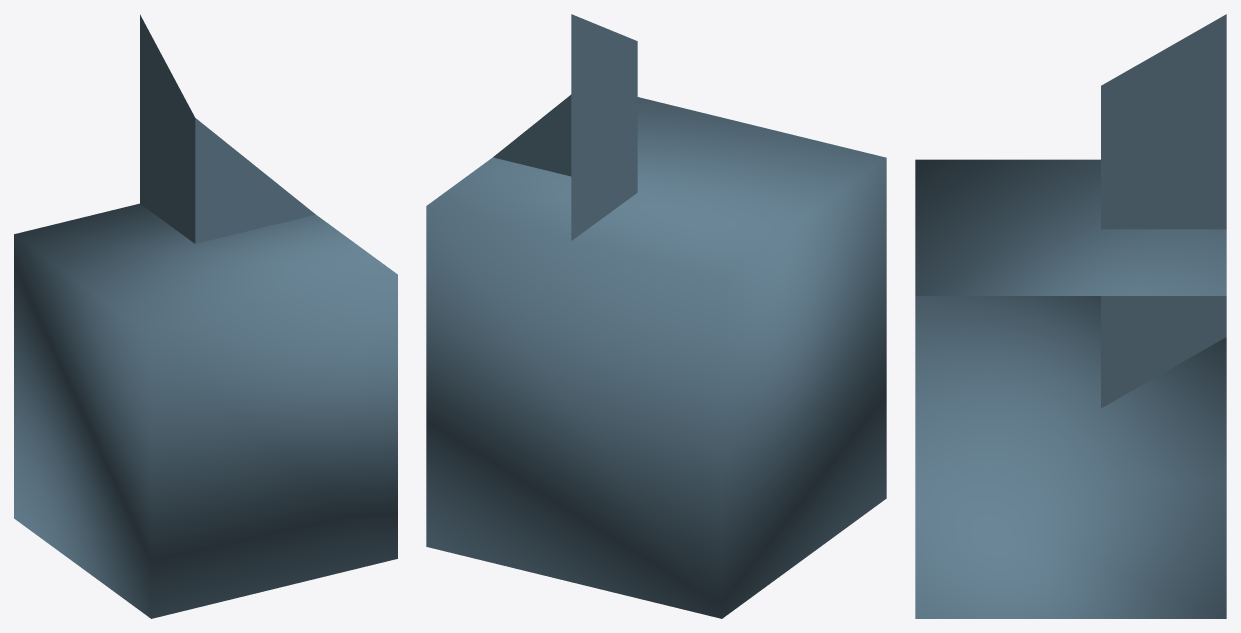
Rendered from Runko_Kulmarappuset.fbx.
The picture shows the model from 3 angles, left to right: view 1: azimuth 30°, elevation 25°; view 2: azimuth 150°, elevation 25°; view 3: azimuth 270°, elevation 25°; orthographic projection. The views are drawn at different scales.
Visible parts, largest first — view 1: KulmaRappuset; view 2: KulmaRappuset; view 3: KulmaRappuset.
Boxes of the visible parts, x1,y1,x2,y2 form: KulmaRappuset: (14, 14, 397, 618); KulmaRappuset: (426, 14, 886, 618); KulmaRappuset: (915, 14, 1226, 618).
Size of the model in its own units: 163 by 300 by 157.
